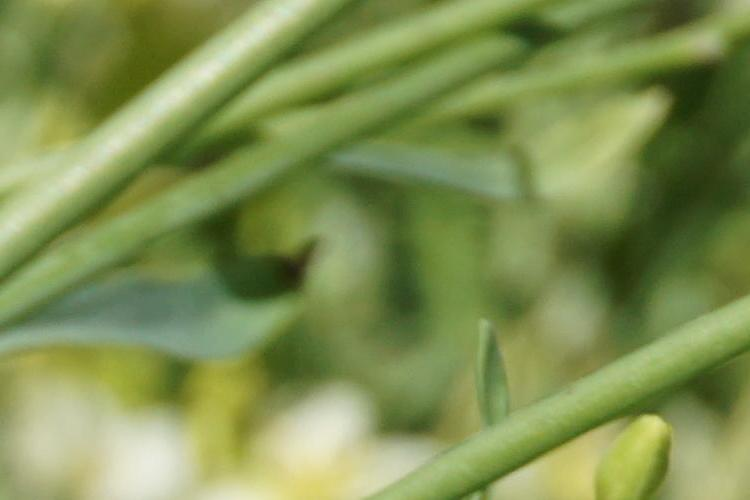bud: (593, 419, 679, 498)
